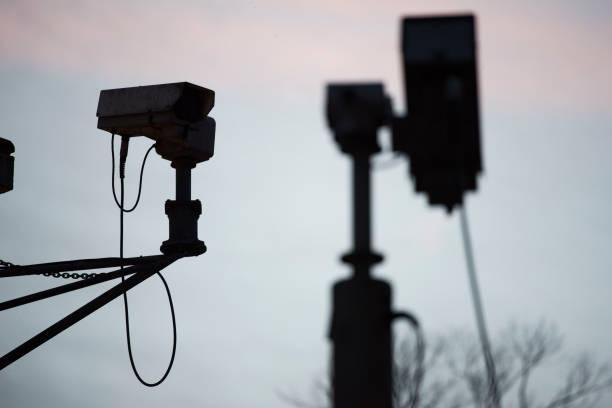camera: (63, 61, 232, 175)
